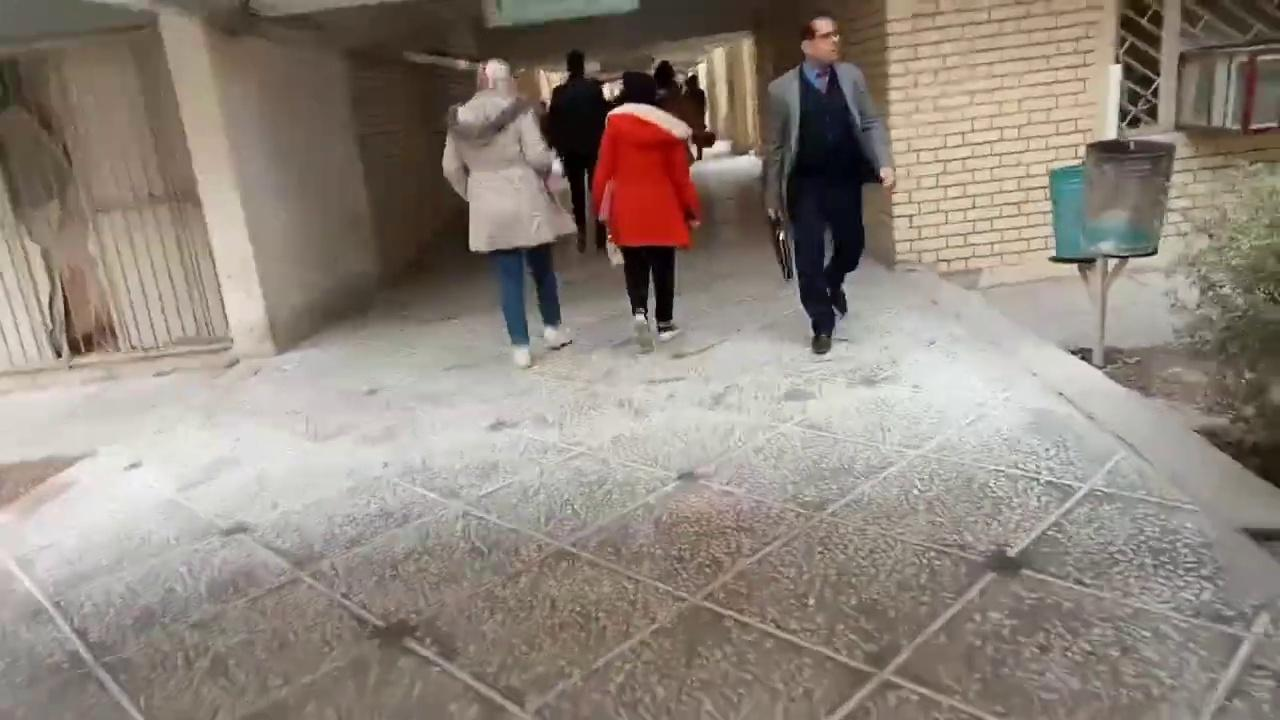person: (762, 15, 896, 354), (441, 57, 578, 368), (590, 70, 702, 344), (545, 48, 609, 253), (681, 73, 707, 160)
tree: (1165, 166, 1279, 485)
